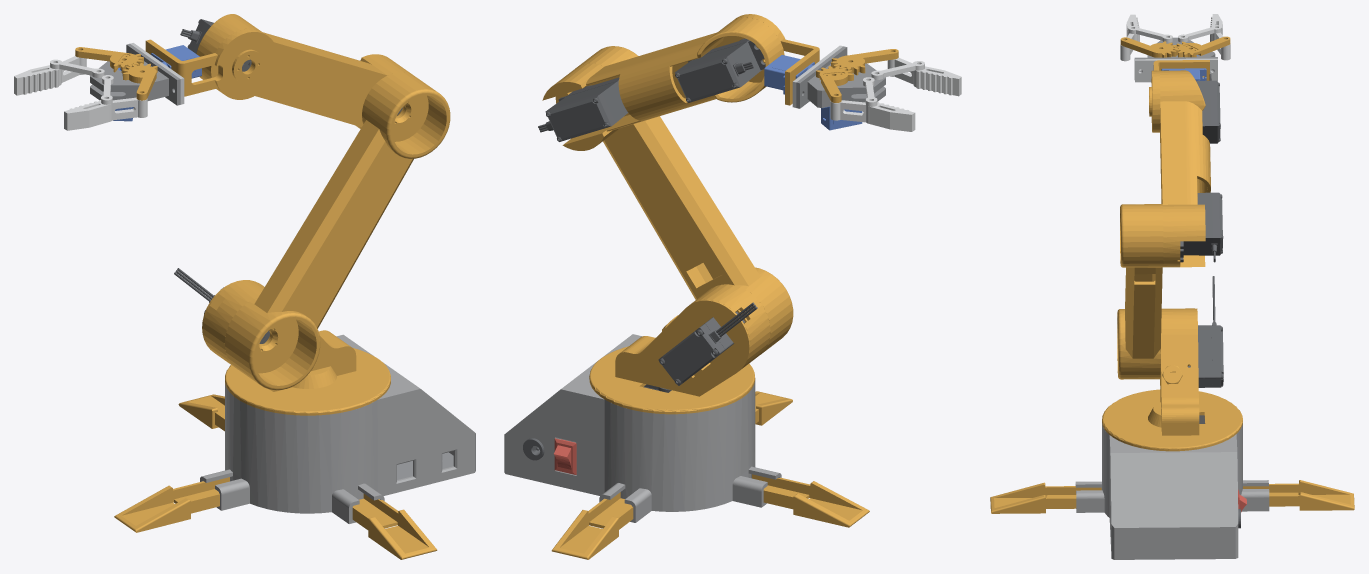
File: arm.glb
3 views of the same model, side by side, from view 1: azimuth 30°, elevation 25°; view 2: azimuth 150°, elevation 25°; view 3: azimuth 270°, elevation 25° (orthographic). The views are drawn at different scales.
Parts seen in each view (by area): view 1: p2, p5, p0, p3, p6, p25, p24, p13, p20, p15, p23, p14 (+2 smaller); view 2: p5, p2, p3, p0, p1, p11, p9, p25, p23, p8, p13, p15 (+7 smaller); view 3: p5, p0, p3, p2, p24, p23, p8, p9, p6, p11, p18, p19 (+1 smaller).
Part boxes in pixels (x1,y1,x2,y2): p2: [225, 72, 450, 390]; p5: [200, 334, 475, 523]; p0: [203, 281, 390, 415]; p3: [196, 14, 412, 128]; p6: [145, 28, 278, 99]; p25: [114, 477, 229, 532]; p24: [352, 493, 437, 559]; p13: [90, 43, 180, 105]; p20: [64, 97, 147, 130]; p15: [14, 55, 86, 95]; p23: [178, 394, 224, 431]; p14: [75, 47, 143, 73]; p5: [504, 334, 781, 522]; p2: [575, 46, 793, 354]; p3: [542, 17, 784, 150]; p0: [589, 284, 770, 414]; p1: [615, 299, 750, 396]; p11: [674, 38, 765, 102]; p9: [538, 77, 628, 141]; p25: [752, 474, 869, 527]; p23: [551, 492, 633, 559]; p8: [658, 302, 757, 385]; p13: [796, 46, 885, 108]; p15: [830, 100, 915, 131]; p5: [1075, 415, 1269, 559]; p0: [1102, 308, 1242, 451]; p3: [1159, 70, 1210, 267]; p2: [1117, 204, 1163, 379]; p24: [990, 482, 1101, 513]; p23: [1243, 480, 1354, 510]; p8: [1188, 276, 1223, 387]; p9: [1180, 192, 1223, 262]; p6: [1149, 60, 1209, 132]; p11: [1196, 74, 1220, 143]; p18: [1135, 58, 1217, 82]; p19: [1120, 37, 1177, 57].
Bounding box in the file's own units: 278 × 313 × 258.
